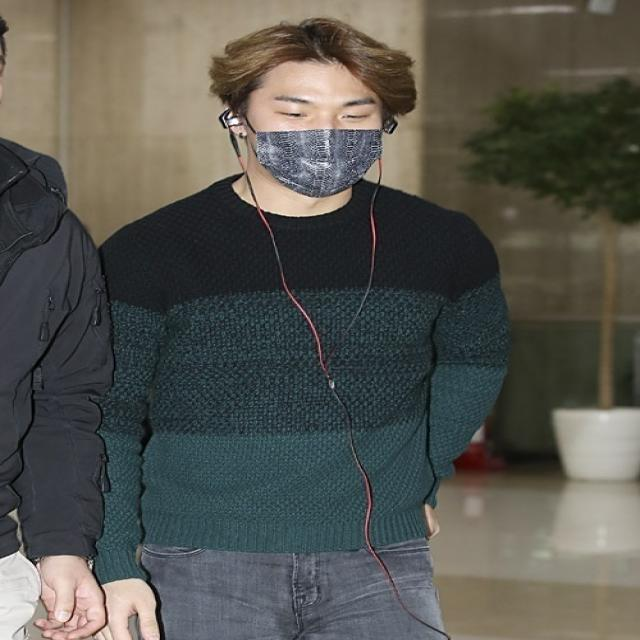mask: (246, 54, 378, 200)
